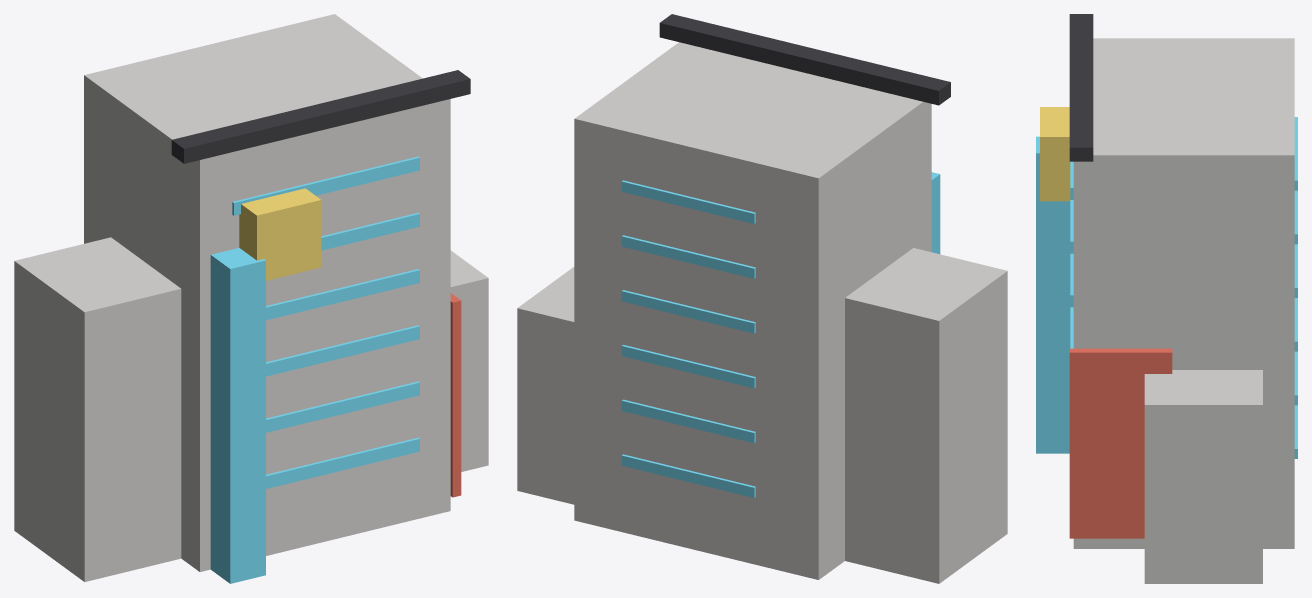
File: roadside_bauhaus.glb
3 renders of one model, left to right at view 1: azimuth 30°, elevation 25°; view 2: azimuth 150°, elevation 25°; view 3: azimuth 270°, elevation 25°, orthographic. The views are drawn at different scales.
Parts seen in each view (by area): view 1: main_block, left_wing, glass_tower, roof_bar, right_wing, yellow_cube, red_panel, window_band_2.0, window_band_3.5, window_band_5.0, window_band_6.5, window_band_9.5 (+1 smaller); view 2: main_block, left_wing, right_wing, roof_bar, window_band_back_3.5, window_band_back_2.0, window_band_back_6.5, window_band_back_8.0, window_band_back_9.5, window_band_back_5.0, glass_tower; view 3: main_block, right_wing, red_panel, glass_tower, roof_bar, yellow_cube.
Boxes of the visible parts, box(x1,y1,x2,y2) form: main_block: box(84, 14, 450, 571); left_wing: box(14, 237, 181, 581); glass_tower: box(210, 248, 265, 583); roof_bar: box(171, 70, 470, 163); right_wing: box(450, 250, 488, 471); yellow_cube: box(239, 188, 321, 280); red_panel: box(450, 293, 461, 497); window_band_2.0: box(266, 437, 419, 488); window_band_3.5: box(266, 381, 419, 432); window_band_5.0: box(266, 325, 419, 376); window_band_6.5: box(266, 269, 419, 320); window_band_9.5: box(232, 156, 419, 215); main_block: box(574, 42, 931, 579); left_wing: box(845, 248, 1007, 583); right_wing: box(517, 267, 574, 504); roof_bar: box(659, 14, 950, 105); window_band_back_3.5: box(621, 399, 755, 443); window_band_back_2.0: box(621, 454, 755, 497); window_band_back_6.5: box(621, 290, 755, 333); window_band_back_8.0: box(621, 235, 755, 278); window_band_back_9.5: box(621, 180, 755, 223); window_band_back_5.0: box(621, 345, 755, 388); glass_tower: box(931, 172, 940, 254); main_block: box(1073, 38, 1294, 548); right_wing: box(1144, 370, 1262, 583); red_panel: box(1069, 348, 1172, 538); glass_tower: box(1036, 136, 1070, 453); roof_bar: box(1069, 14, 1093, 161); yellow_cube: box(1040, 107, 1070, 201).
Bounding box in the file's own units: 11.8 × 11.45 × 6.63.
